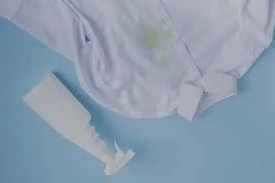oil: (139, 21, 176, 49)
